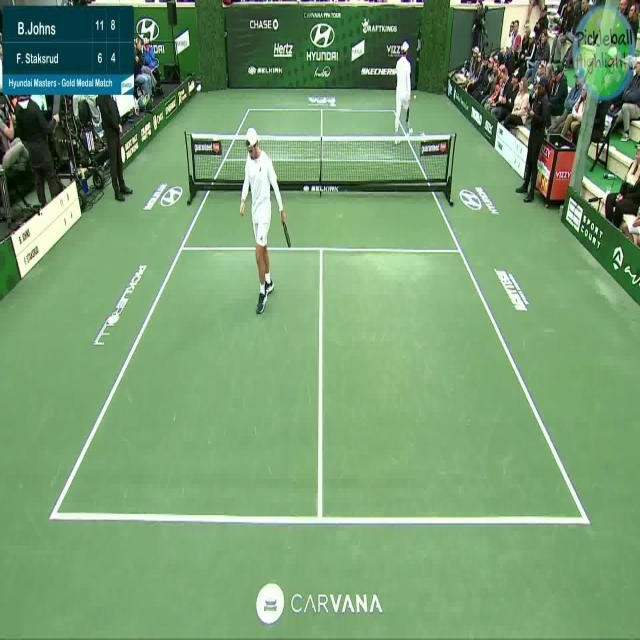Court: (49, 110, 590, 521)
ball: (414, 94, 416, 104)
